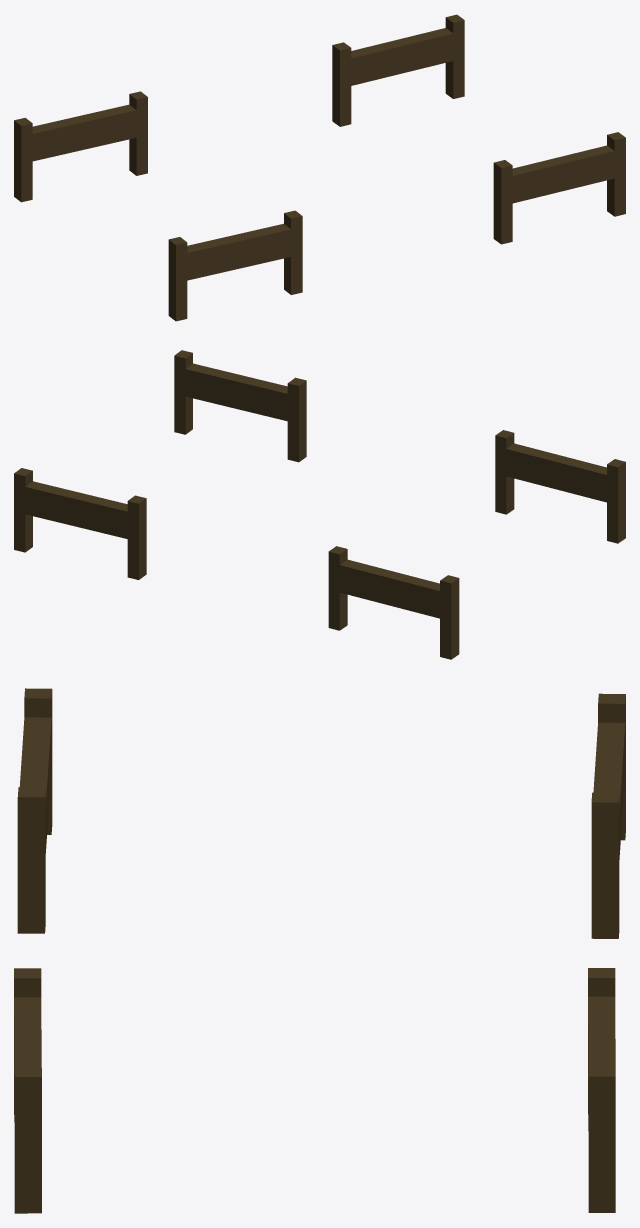
File: DoubleBedFrame.glb
The picture shows the model from 3 angles, top to bottom: view 1: azimuth 30°, elevation 25°; view 2: azimuth 150°, elevation 25°; view 3: azimuth 270°, elevation 25°; orthographic projection. The views are drawn at different scales.
Parts seen in each view (by area): view 1: Bed Frame.001, Bed Frame.005, Bed Frame.004, Bed Frame.003; view 2: Bed Frame.003, Bed Frame.004, Bed Frame.005, Bed Frame.001; view 3: Bed Frame.001, Bed Frame.003, Bed Frame.004, Bed Frame.005.
Part boxes in pixels (bbox=[...]): Bed Frame.001: bbox=[168, 210, 302, 321]; Bed Frame.005: bbox=[332, 14, 464, 126]; Bed Frame.004: bbox=[493, 132, 625, 244]; Bed Frame.003: bbox=[14, 91, 147, 202]; Bed Frame.003: bbox=[328, 546, 459, 659]; Bed Frame.004: bbox=[174, 350, 306, 462]; Bed Frame.005: bbox=[14, 468, 146, 579]; Bed Frame.001: bbox=[495, 430, 625, 543]; Bed Frame.001: bbox=[17, 688, 52, 933]; Bed Frame.003: bbox=[591, 693, 625, 938]; Bed Frame.004: bbox=[14, 968, 41, 1213]; Bed Frame.005: bbox=[588, 968, 615, 1212].
Bounding box in the file's own units: 7.17 × 1.18 × 4.76.
